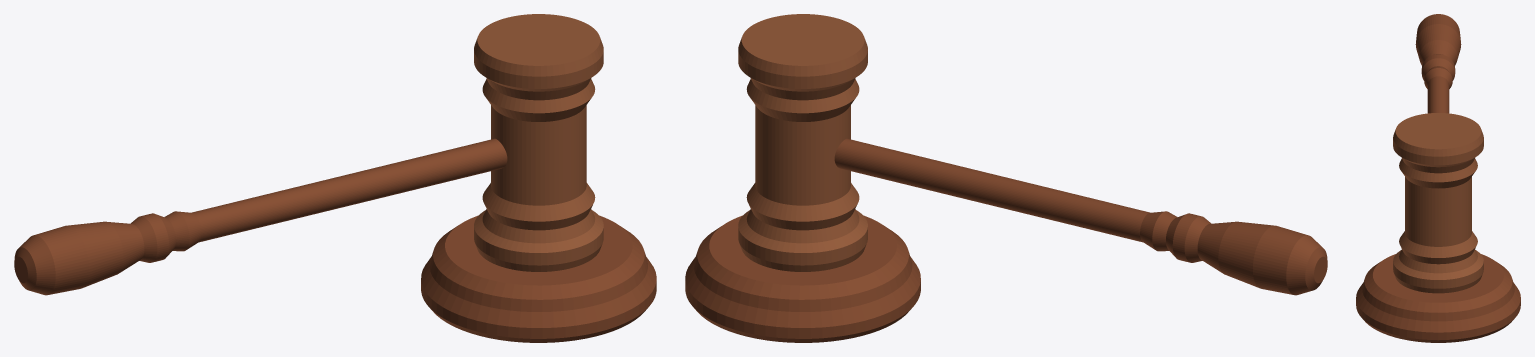
File: A-NEW-20261026-GAVEL-BLOCK-001_LOD0_R1.fbx
3 renders of one model, left to right at view 1: azimuth 30°, elevation 25°; view 2: azimuth 150°, elevation 25°; view 3: azimuth 270°, elevation 25°, orthographic. The views are drawn at different scales.
Parts seen in each view (by area): view 1: barrel gavel head, turned handle, turned strike block; view 2: barrel gavel head, turned handle, turned strike block; view 3: barrel gavel head, turned strike block, turned handle.
Part boxes in pixels (bbox=[...]): barrel gavel head: bbox=[474, 14, 603, 271]; turned handle: bbox=[14, 138, 507, 295]; turned strike block: bbox=[421, 215, 656, 342]; barrel gavel head: bbox=[738, 14, 867, 271]; turned handle: bbox=[834, 138, 1327, 295]; turned strike block: bbox=[685, 215, 920, 342]; barrel gavel head: bbox=[1393, 113, 1483, 293]; turned strike block: bbox=[1356, 254, 1520, 342]; turned handle: bbox=[1415, 14, 1461, 113].
Size of the model in its own units: 41.9 by 16.5 by 13.8.
